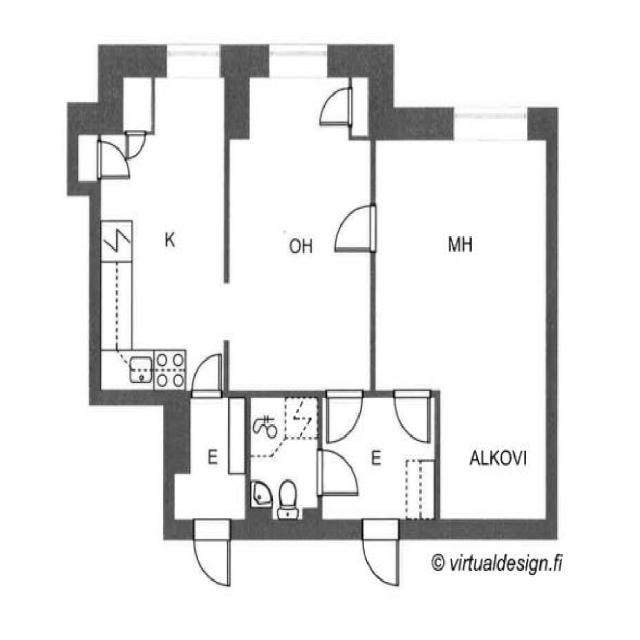door: (188, 515, 237, 596), (358, 517, 404, 595), (328, 194, 382, 256), (390, 382, 436, 450), (88, 128, 139, 184), (321, 384, 366, 446), (313, 443, 362, 499), (188, 346, 228, 406), (314, 79, 358, 132), (118, 123, 150, 164)
window: (444, 94, 537, 149), (261, 32, 338, 85), (160, 32, 230, 82)
zone: (371, 112, 554, 388), (226, 68, 374, 399), (94, 68, 230, 398), (437, 387, 554, 533), (248, 391, 322, 523), (176, 396, 248, 530)
